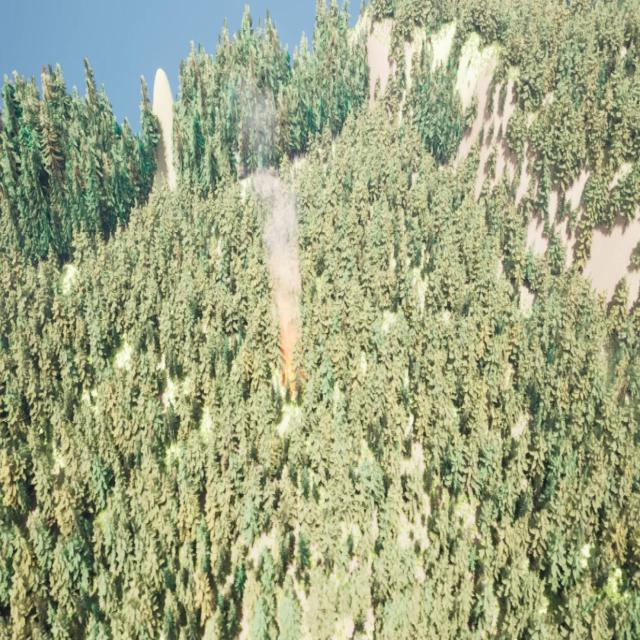fire: (278, 347, 306, 388)
smoke: (234, 70, 300, 340)
